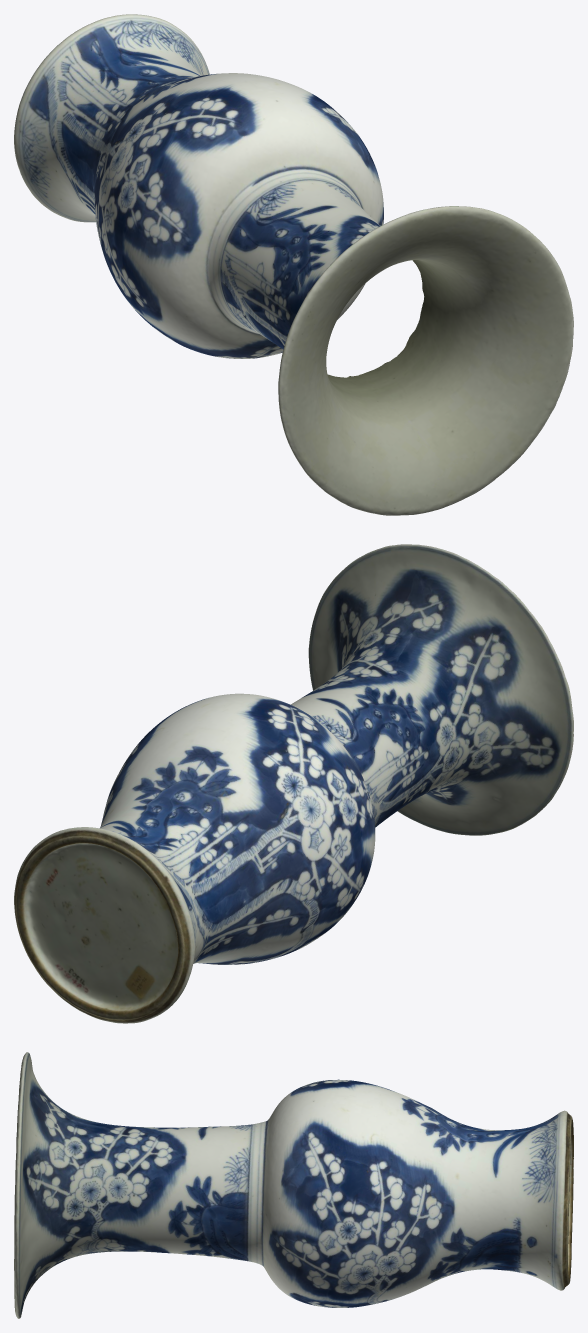
The model's file is f1986_19-mesh-smooth-textured-200k-2048-web.glb.
3 views of the same model, one above another, from view 1: azimuth 30°, elevation 25°; view 2: azimuth 150°, elevation 25°; view 3: azimuth 270°, elevation 25° (orthographic). The views are drawn at different scales.
Size of the model in its own units: 0.2218 by 0.2215 by 0.4641.
1 material, 1 textured.
